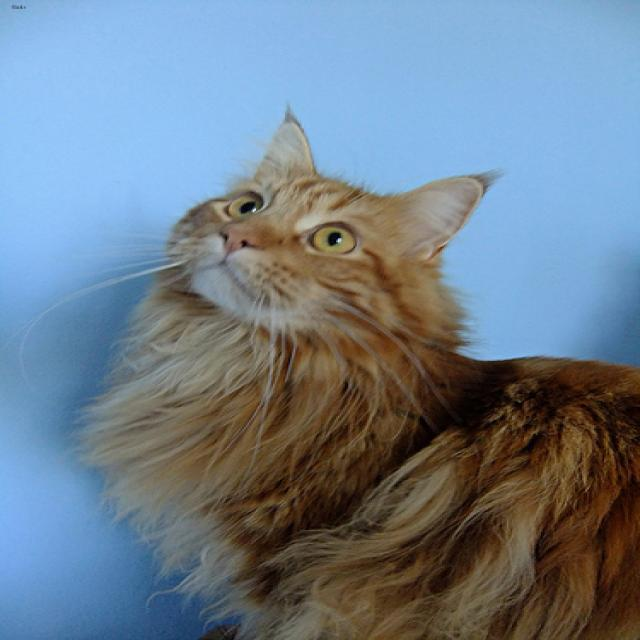Maine_Coon: (151, 101, 495, 345)
